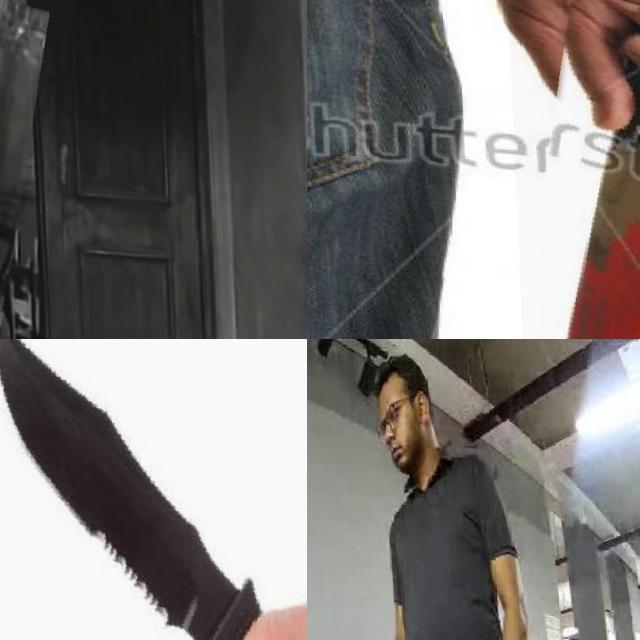-: (0, 339, 307, 640), (505, 0, 640, 339)
gun-knife-thesis - v11 Yolov5 augmented: (0, 0, 103, 339)
